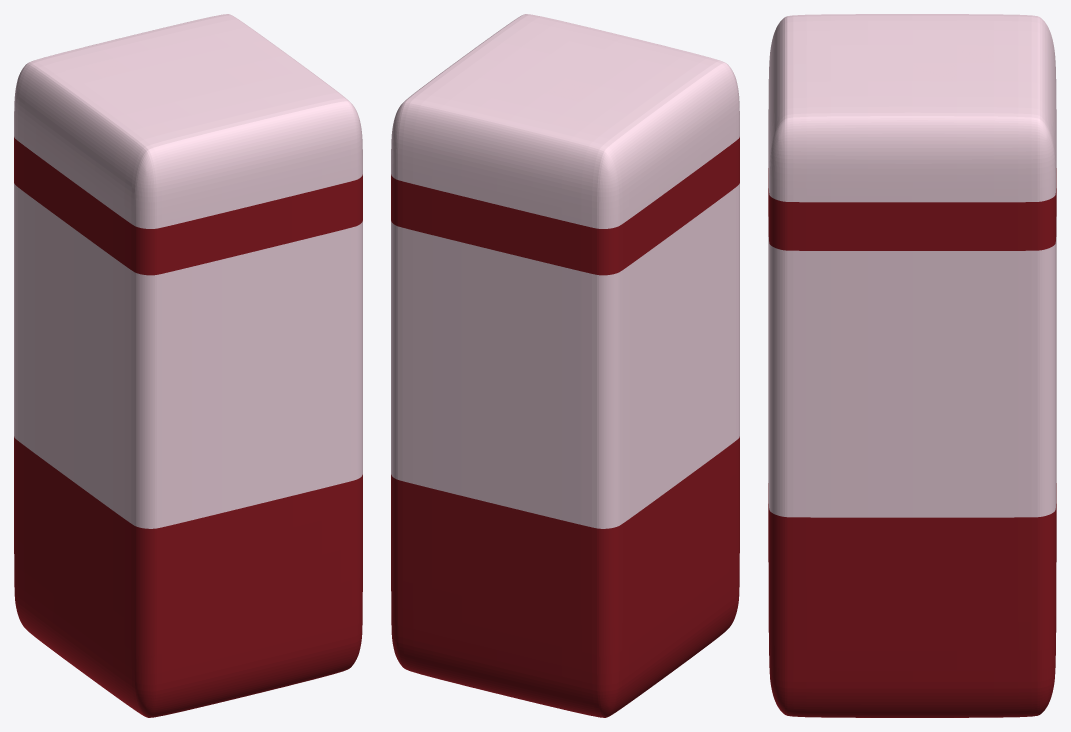
Rendered from Zucker.fbx.
3 renders of one model, left to right at view 1: azimuth 30°, elevation 25°; view 2: azimuth 150°, elevation 25°; view 3: azimuth 270°, elevation 25°, orthographic. The views are drawn at different scales.
Visible parts, largest first — view 1: Cube; view 2: Cube; view 3: Cube.
Part boxes in pixels (x1,y1,x2,y2): Cube: [14, 14, 362, 717]; Cube: [391, 14, 739, 717]; Cube: [768, 14, 1056, 717].
Size of the model in its own units: 26.99 by 64.96 by 27.99.
